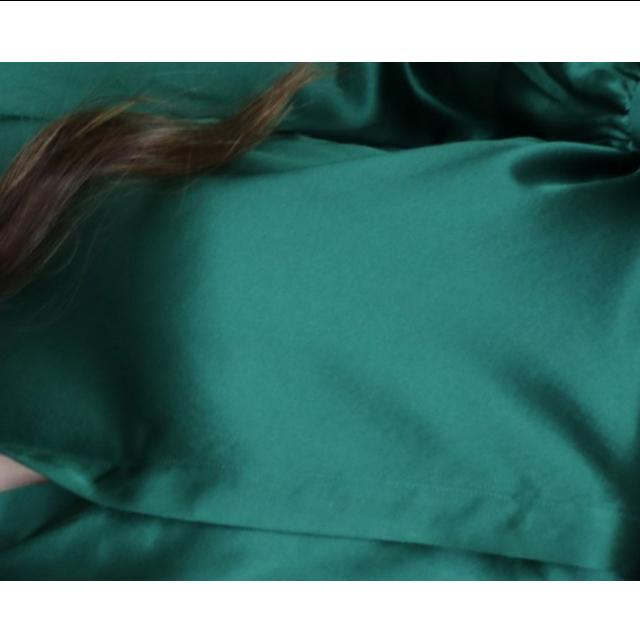silk: (0, 61, 640, 580)
